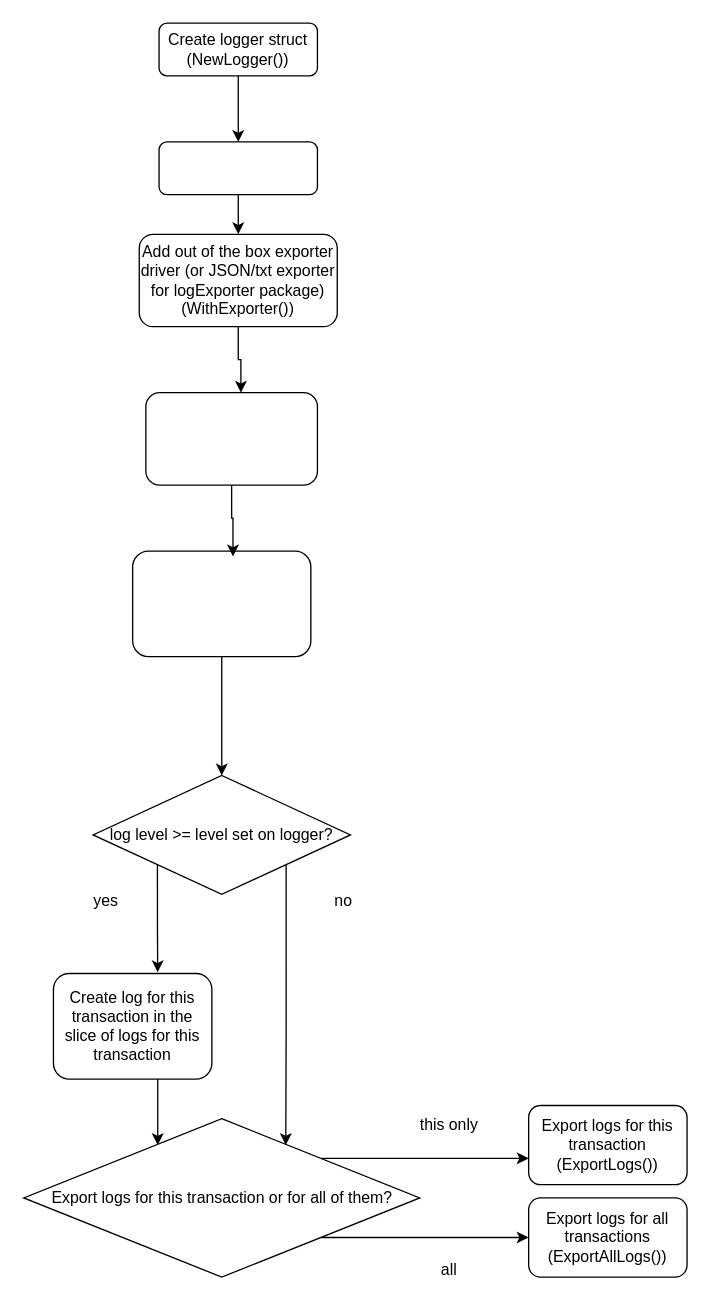
Some shapes in this 710 by 1313 pixel diagram are drawn without their labels. The shapes that lost their labels are listed below. From the top down, each one's centre as x and y in pixels, then its label:
At point (237, 168): "Add config (WithConfig())".
At point (231, 438): "Start transaction - add it to transaction map on logger (StartTransaction())".
At point (221, 603): "Try to create log for transaction (Info()/Debug()/Warning()/Error())".
